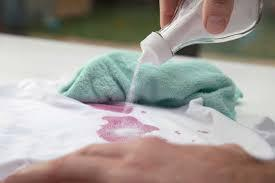oil: (93, 92, 127, 112), (102, 112, 136, 126), (101, 130, 113, 141), (146, 123, 158, 133)
